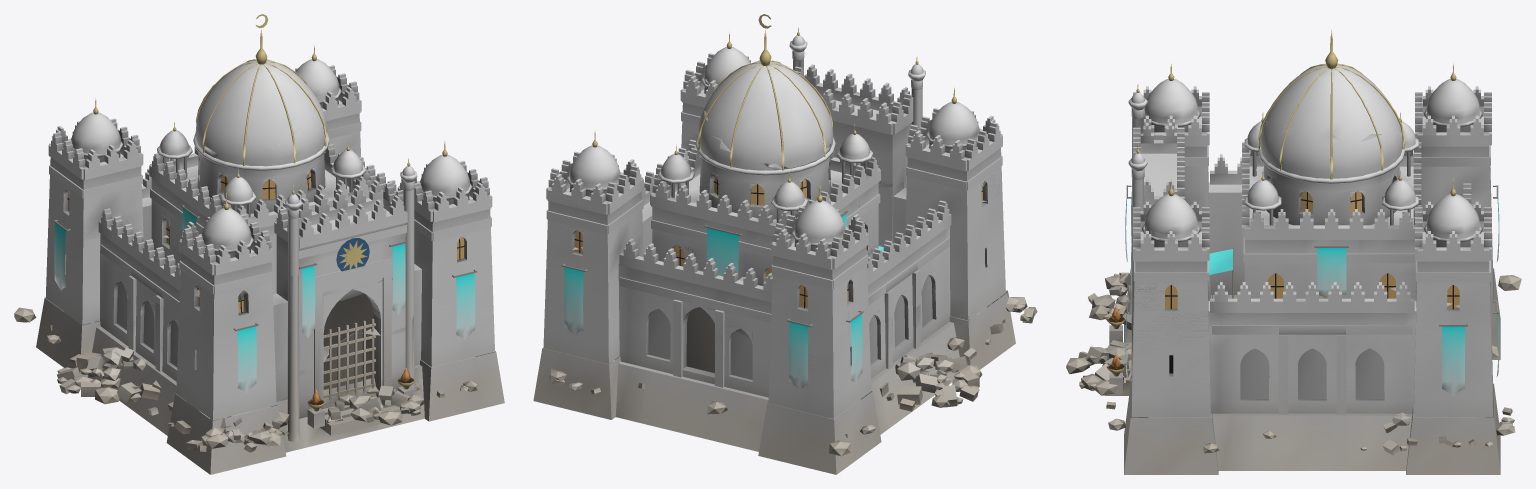
The model's file is keep_caliphate.glb.
The picture shows the model from 3 angles, left to right: view 1: azimuth 30°, elevation 25°; view 2: azimuth 150°, elevation 25°; view 3: azimuth 270°, elevation 25°; orthographic projection. The views are drawn at different scales.
Parts seen in each view (by area): view 1: stage0, stage2, stage3, stage1; view 2: stage0, stage2, stage3, stage1; view 3: stage0, stage3, stage2, stage1.
Boxes of the visible parts, x1,y1,x2,y2 form: stage0: (36,14,504,474); stage2: (14,153,493,452); stage3: (57,183,469,451); stage1: (57,96,493,444); stage0: (533,14,1015,474); stage2: (544,79,1034,456); stage3: (549,85,1037,414); stage1: (682,110,987,407); stage0: (1104,30,1515,474); stage3: (1079,228,1513,453); stage2: (1066,167,1521,447); stage1: (1092,88,1402,409).
Bounding box in the file's own units: 23.69 × 21.84 × 23.59.
